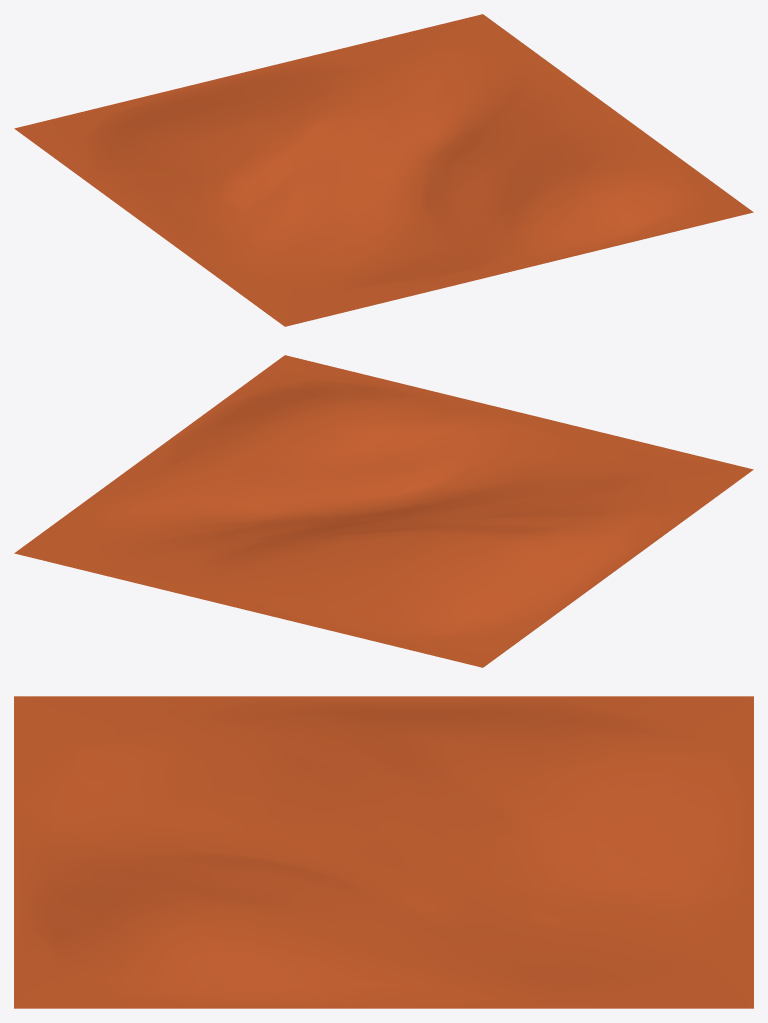
The model's file is landscape_Plane.fbx.
3 views of the same model, one above another, from view 1: azimuth 30°, elevation 25°; view 2: azimuth 150°, elevation 25°; view 3: azimuth 270°, elevation 25° (orthographic). The views are drawn at different scales.
Visible parts, largest first — view 1: landscape_Plane; view 2: landscape_Plane; view 3: landscape_Plane.
Part boxes in pixels (x1,y1,x2,y2): landscape_Plane: [14, 14, 753, 326]; landscape_Plane: [14, 355, 753, 667]; landscape_Plane: [14, 696, 753, 1008].
Bounding box in the file's own units: 125 × 7 × 125.
